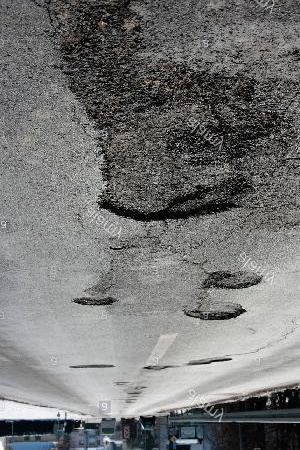pothole: (93, 57, 283, 224), (199, 268, 264, 294), (180, 301, 247, 322), (179, 354, 232, 367), (71, 295, 117, 306), (66, 364, 115, 372), (138, 363, 175, 373), (133, 383, 147, 392)
